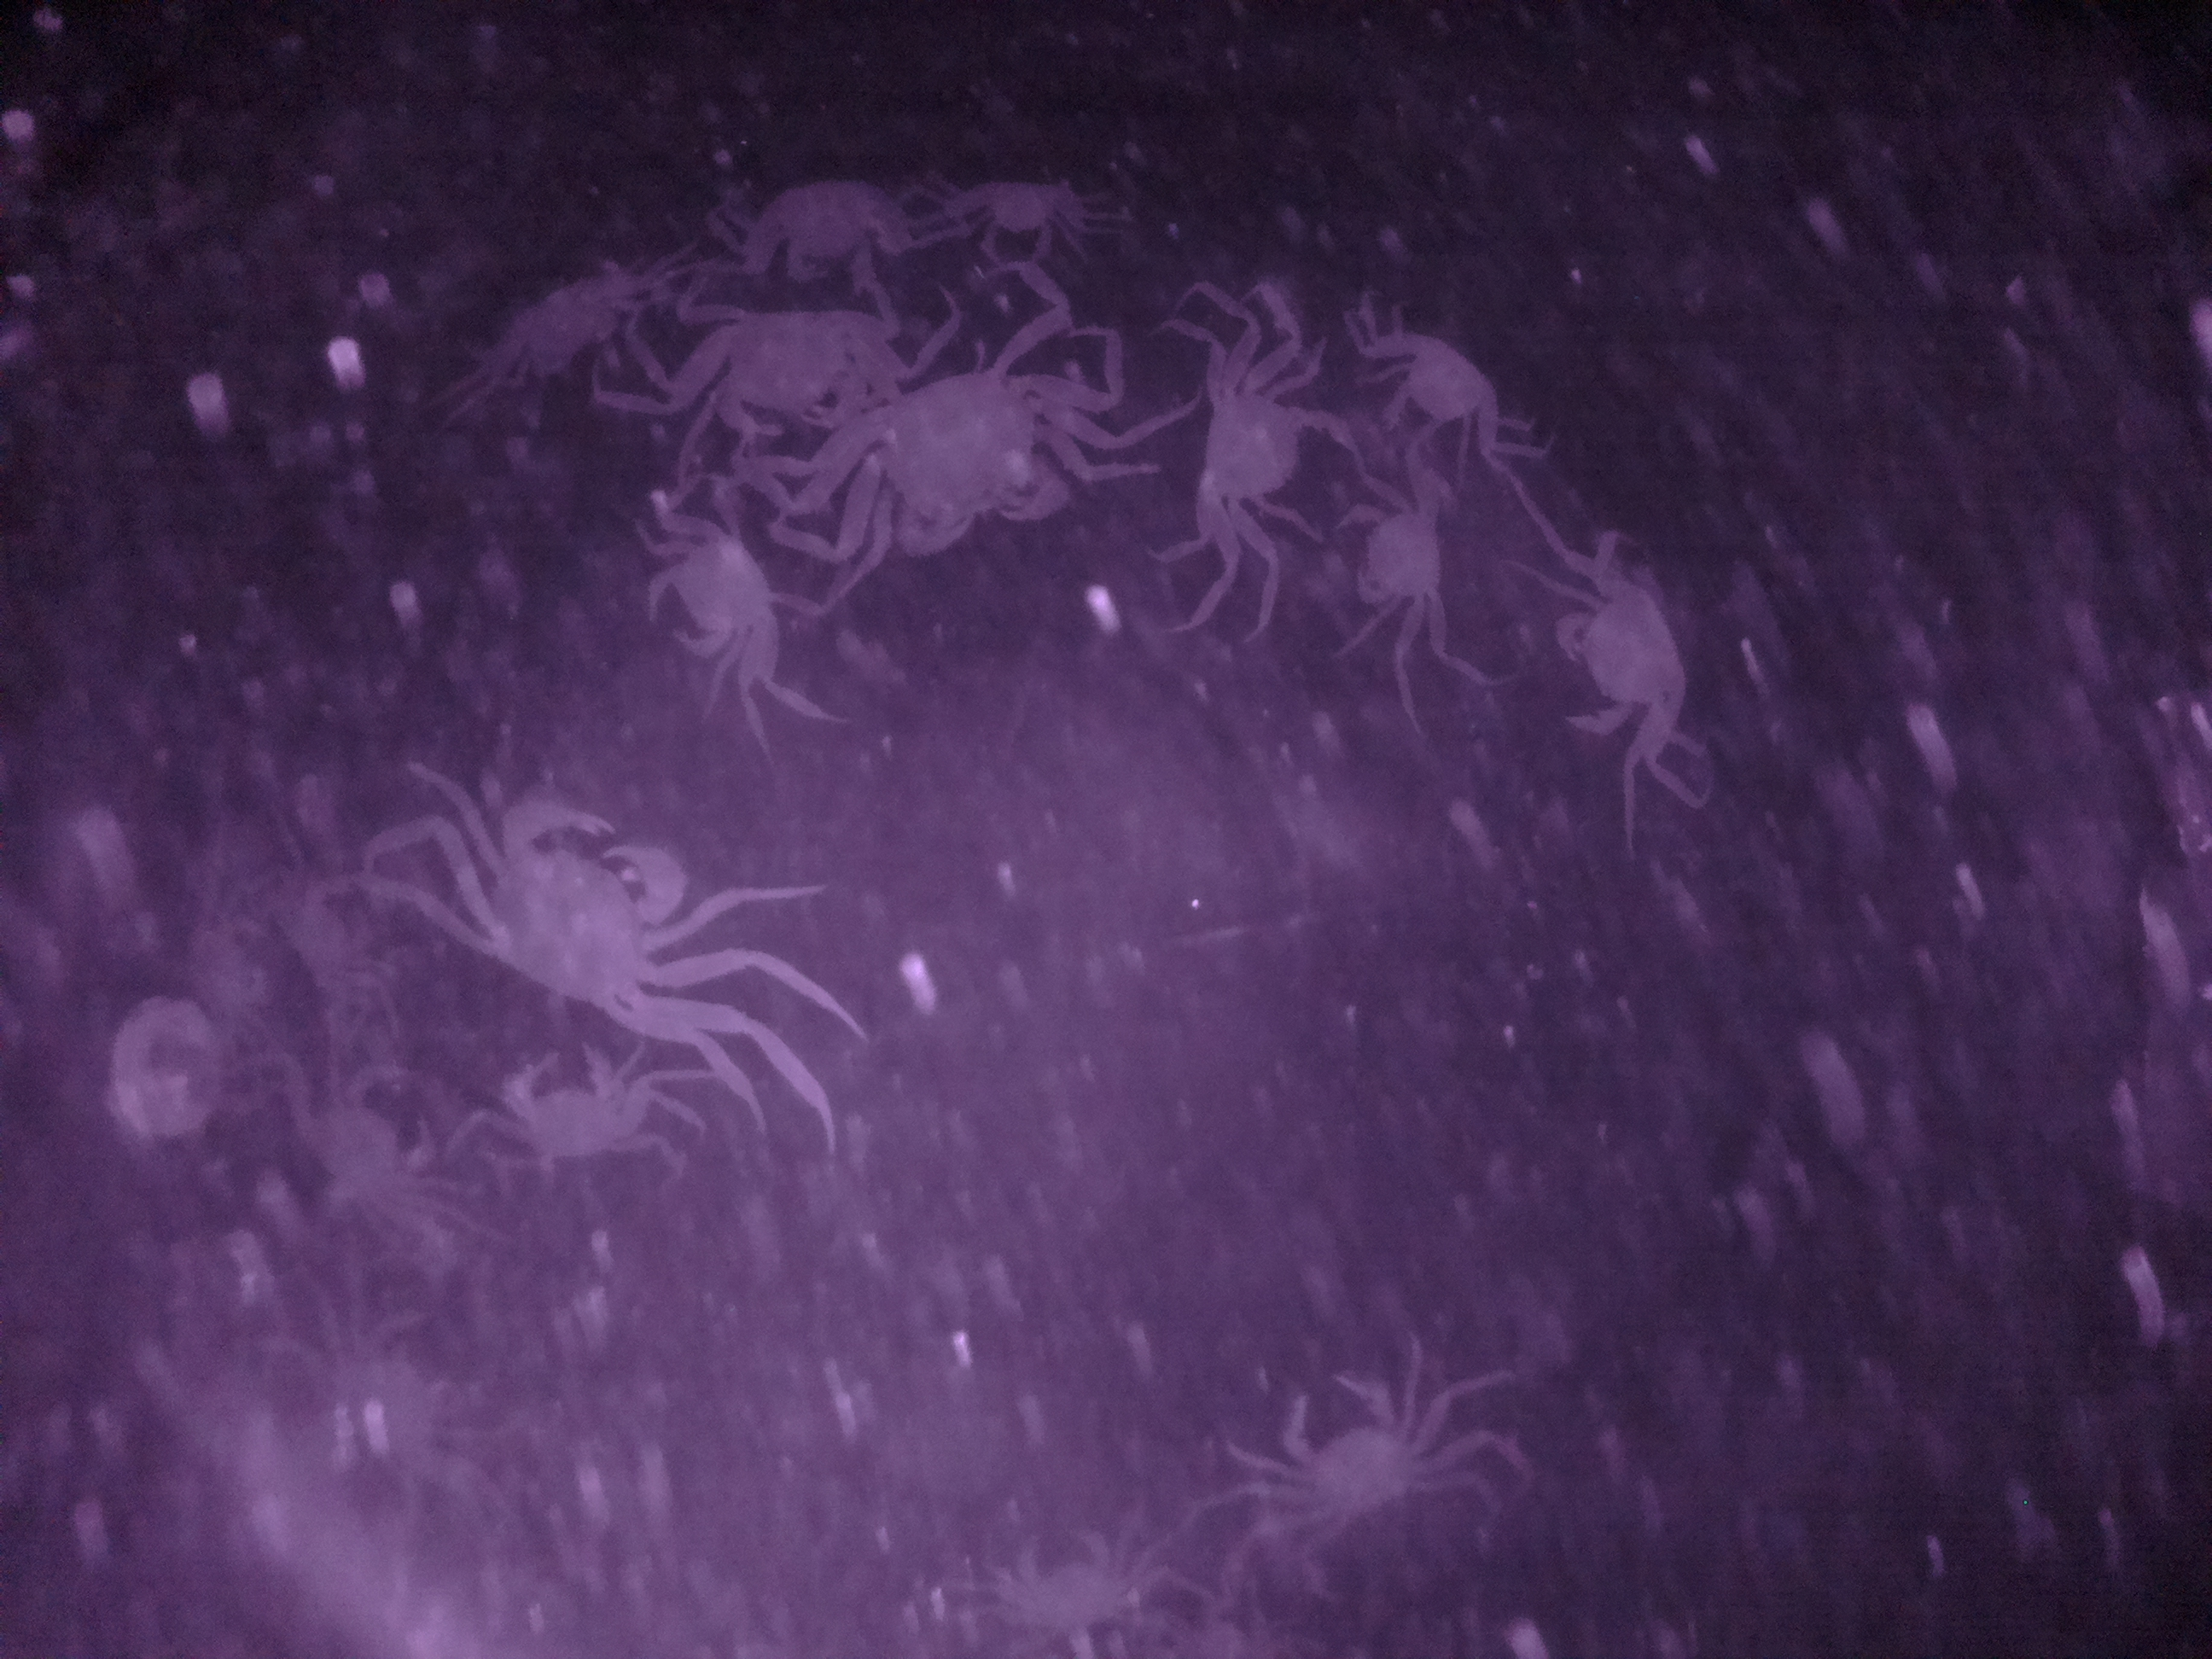Crab: (448, 788, 744, 1049), (843, 342, 1101, 580), (1258, 1344, 1440, 1556), (634, 495, 784, 702), (1369, 286, 1538, 464), (1554, 561, 1705, 746), (735, 148, 918, 291), (482, 1035, 667, 1168), (1188, 366, 1329, 532), (1339, 474, 1460, 633), (951, 167, 1113, 268)
